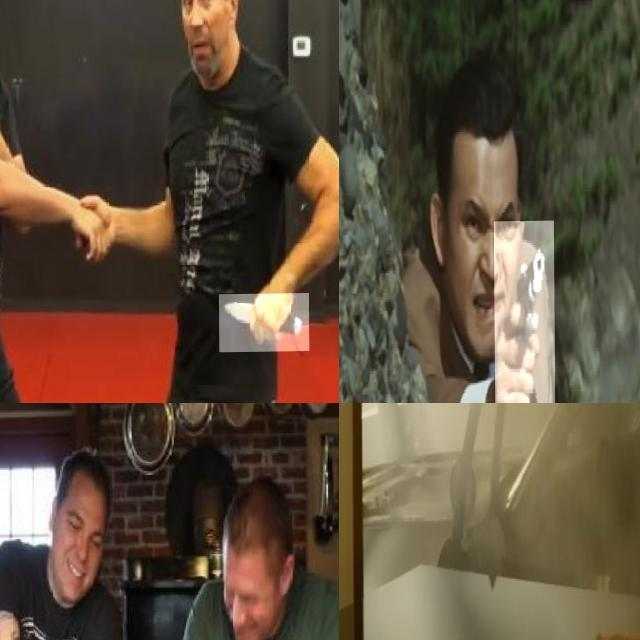-: (219, 294, 309, 354)
gun-knife-thesis - v11 Yolov5 augmented: (493, 222, 555, 403), (339, 403, 404, 478)
